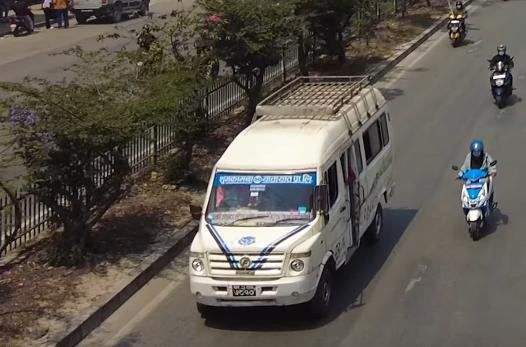micro_bus: (186, 69, 400, 325)
scooter: (451, 156, 504, 242), (487, 54, 518, 108), (448, 14, 470, 49)
